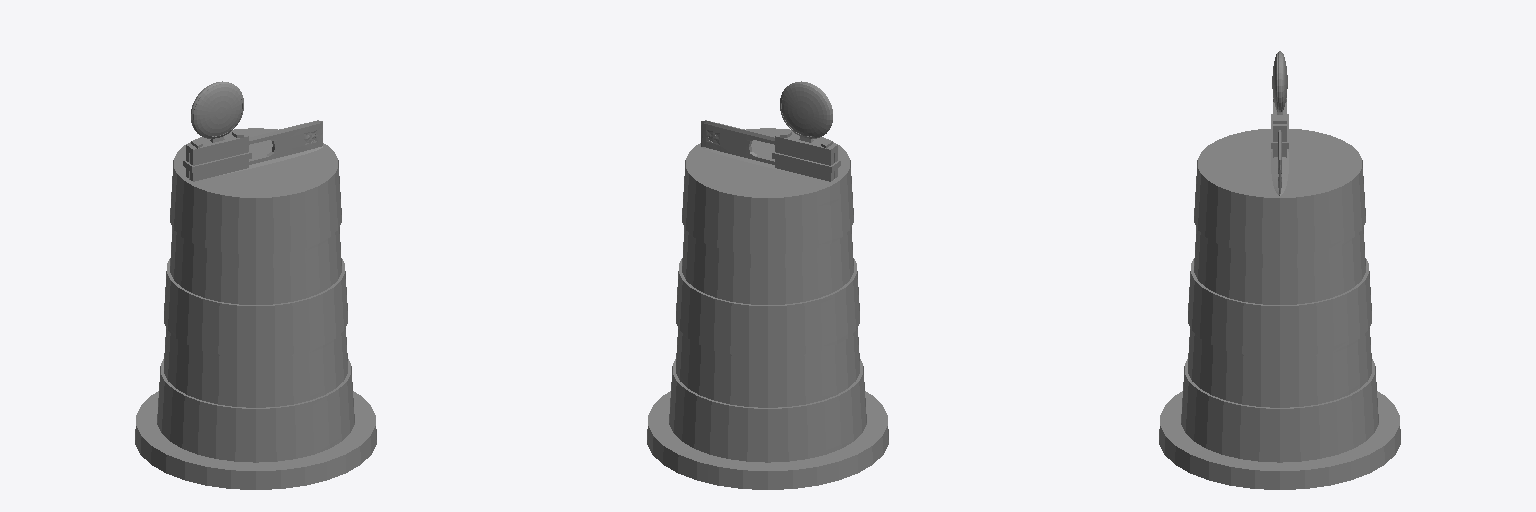
Rendered from Traffic-Cone.obj.
The picture shows the model from 3 angles: view 1: azimuth 30°, elevation 25°; view 2: azimuth 150°, elevation 25°; view 3: azimuth 270°, elevation 25°; orthographic projection.
Visible parts, largest first — view 1: Construction_Barrel; view 2: Construction_Barrel; view 3: Construction_Barrel.
Part boxes in pixels (x1,y1,x2,y2): Construction_Barrel: (135, 81, 376, 489); Construction_Barrel: (647, 81, 888, 489); Construction_Barrel: (1159, 51, 1400, 489).
Size of the model in its own units: 2.57 by 4.27 by 2.56.